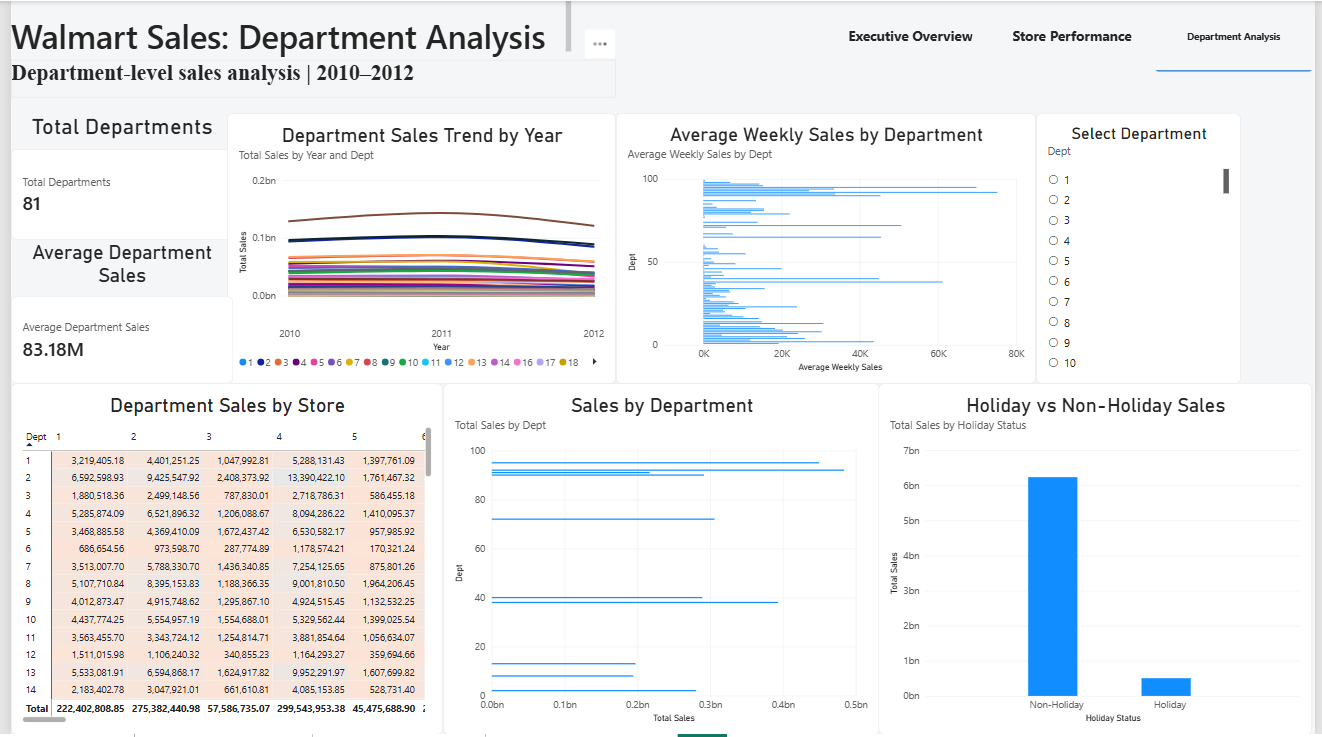

What the dashboard file says about the page in this screenshot:
{"tool":"powerbi","page":{"name":"Department Analysis","canvas":[1920,1080],"ordinal":2},"visuals":[{"type":"clusteredBarChart","title":"Sales by Department","fields":{"Category":["train.Dept"],"Y":["train.Total Sales"]},"box":[636,564,642.2,516.6],"z":0},{"type":"cardVisual","title":"Total Departments","fields":{"Data":["train.Total Departments"]},"box":[0,165.8,327.8,186.3],"z":1},{"type":"clusteredBarChart","title":"Average Weekly Sales by Department","fields":{"Category":["train.Dept"],"Y":["train.Average Weekly Sales"]},"box":[890.8,165.6,618.4,397.5],"z":2},{"type":"lineChart","title":"Department Sales Trend by Year","fields":{"Category":["train.Year"],"Series":["train.Dept"],"Y":["train.Total Sales"]},"box":[318.4,165.6,572.4,397.5],"z":3},{"type":"listSlicer","title":"Select Department","fields":{"Values":["train.Dept"]},"box":[1509.2,165.6,301.8,397.5],"z":4},{"type":"pivotTable","title":"Department Sales by Store","fields":{"Columns":["train.Store"],"Rows":["train.Dept"],"Values":["train.Total Sales"]},"box":[0,564,636,516.6],"z":5},{"type":"cardVisual","title":"Average Department Sales","fields":{"Data":["train.Average Department Sales"]},"box":[0,353.4,327.6,209.8],"z":6},{"type":"clusteredColumnChart","title":"Holiday vs Non-Holiday Sales","fields":{"Category":["train.Holiday Status"],"Y":["train.Total Sales"]},"box":[1278.2,564,638.1,516.6],"z":7},{"type":"textbox","box":[0,0,824.5,86.5],"z":9},{"type":"pageNavigator","box":[1209.2,0,706.8,104.9],"z":10},{"type":"textbox","box":[0,86.5,890.8,57.1],"z":11}]}

Visuals, with their boxes in screenshot pixels (x1, y1, x2, y2), scaled from the page's 1920x1080 canvas onto the 1322x737 screenshot:
"Sales by Department" clusteredBarChart: box(438, 385, 880, 736)
"Total Departments" cardVisual: box(0, 113, 226, 240)
"Average Weekly Sales by Department" clusteredBarChart: box(613, 113, 1039, 384)
"Department Sales Trend by Year" lineChart: box(219, 113, 613, 384)
"Select Department" listSlicer: box(1039, 113, 1247, 384)
"Department Sales by Store" pivotTable: box(0, 385, 438, 736)
"Average Department Sales" cardVisual: box(0, 241, 226, 384)
"Holiday vs Non-Holiday Sales" clusteredColumnChart: box(880, 385, 1319, 736)
textbox: box(0, 0, 568, 59)
pageNavigator: box(833, 0, 1319, 72)
textbox: box(0, 59, 613, 98)
